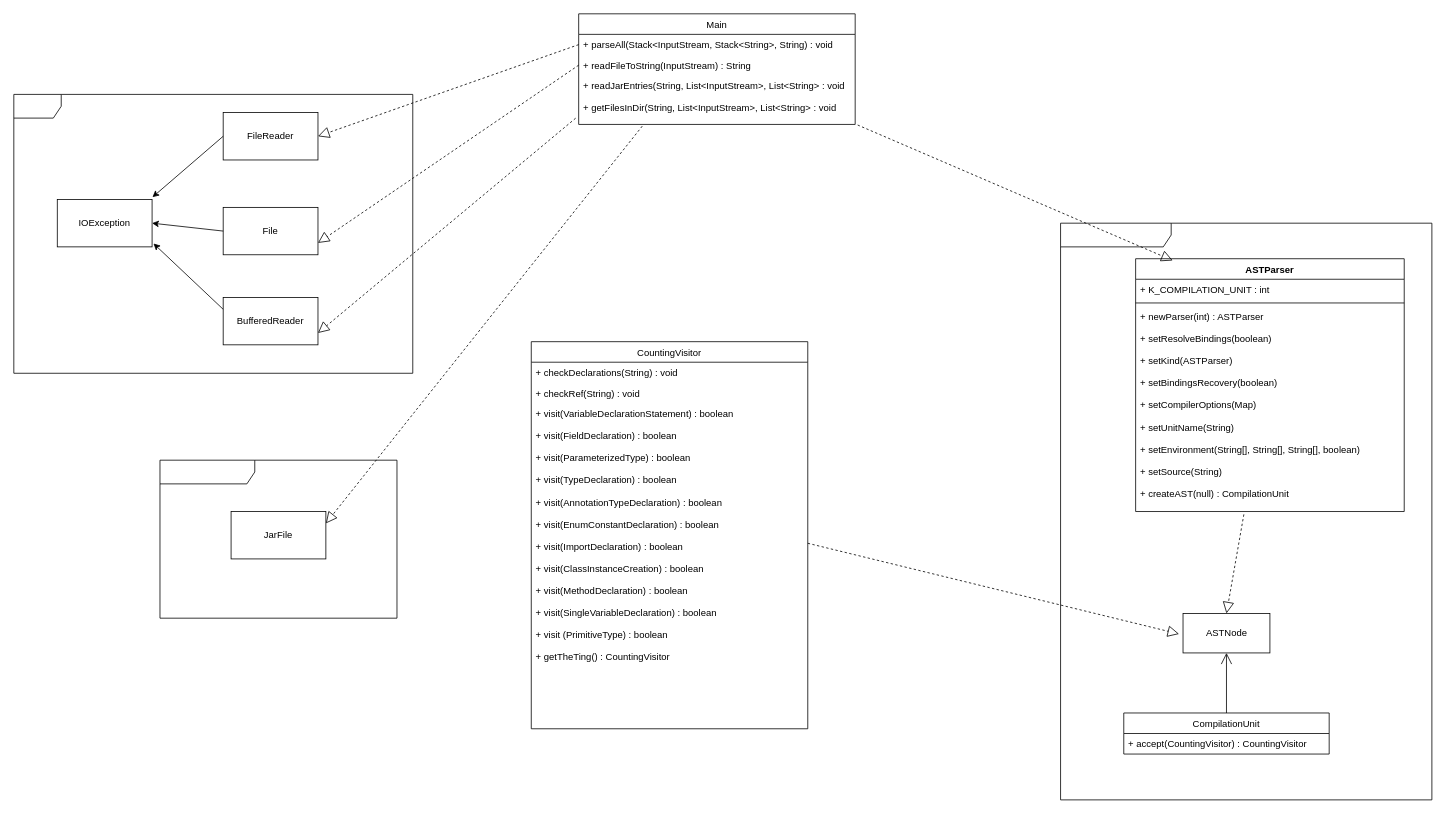
Some shapes in this 1446 by 814 pixel diagram are drawn without their labels. The shapes that lost their labels are listed below. From the top down, each one's centre as x and y in pixels, then its label:
[213,233]: java.io
[1246,511]: org.eclipse.jdt.dom
[278,538]: java.uitl.jar
